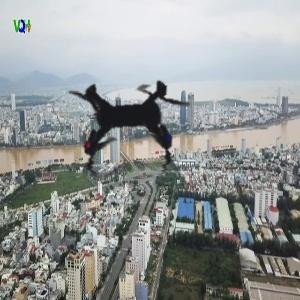drone: (24, 11, 244, 231)
